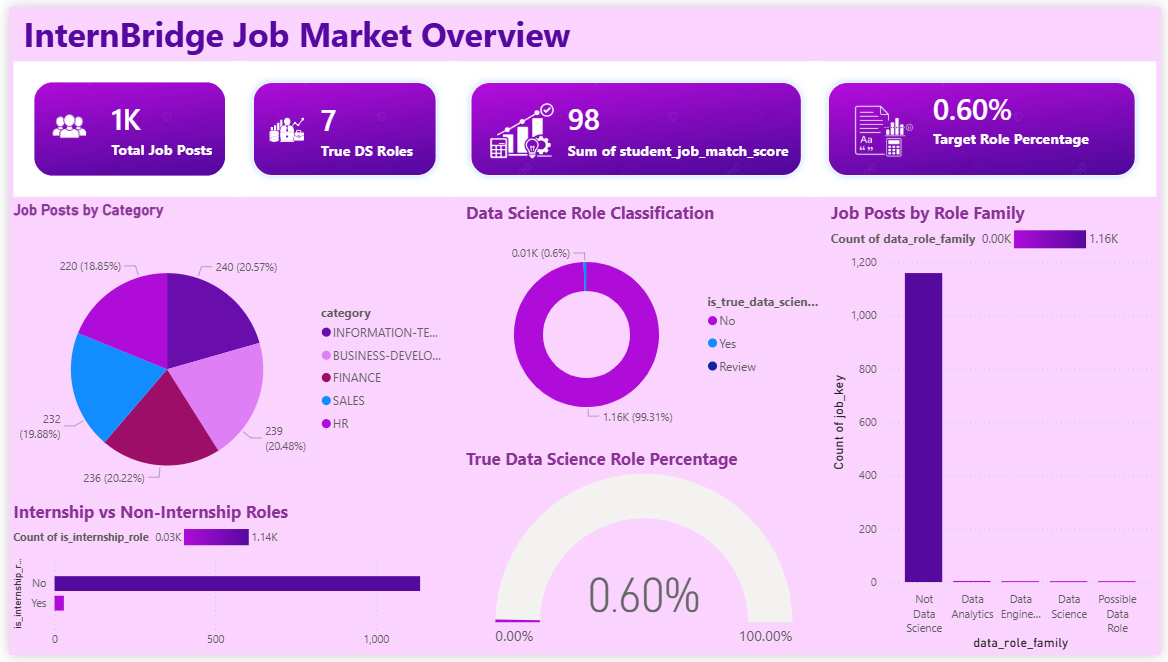

The page's visual inventory and layout, read from the dashboard file:
{"tool":"powerbi","page":{"name":"Job Market Overview","canvas":[1280,720],"ordinal":0},"visuals":[{"type":"textbox","box":[11.4,0,718.6,82.9],"z":0},{"type":"cardVisual","fields":{"Data":["Jobs.Total Job Posts"]},"box":[0,55.7,268.6,160],"z":1000},{"type":"cardVisual","fields":{"Data":["Jobs.True DS Roles"]},"box":[242.9,55.7,260,160],"z":2000},{"type":"cardVisual","fields":{"Data":["Sum(Jobs.student_job_match_score)"]},"box":[484.3,55.7,424.3,160],"z":3000},{"type":"cardVisual","fields":{"Data":["Jobs.Target Role Percentage"]},"box":[881.4,55.7,398.6,160],"z":4000},{"type":"donutChart","title":"Data Science Role Classification","fields":{"Category":["Jobs.is_true_data_science_role"],"Y":["CountNonNull(Jobs.job_key)"]},"box":[502.9,215.7,407.1,272.9],"z":5000},{"type":"gauge","title":"True Data Science Role Percentage","fields":{"Y":["Jobs.Target Role Percentage"]},"box":[502.9,488.6,405.7,231.4],"z":6000},{"type":"pieChart","title":"Job Posts by Category","fields":{"Category":["Jobs.category"],"Y":["CountNonNull(Jobs.job_key)"]},"box":[0,215.7,498.6,355.7],"z":7000},{"type":"clusteredBarChart","title":"Internship vs Non-Internship Roles","fields":{"Category":["Jobs.is_internship_role"],"Y":["CountNonNull(Jobs.job_key)"]},"box":[0,547.4,499,173.1],"z":8000},{"type":"clusteredColumnChart","title":"Job Posts by Role Family","fields":{"Category":["Jobs.data_role_family"],"Y":["CountNonNull(Jobs.job_key)"]},"box":[908.6,215.7,371.4,504.3],"z":9000}]}

Visuals, with their boxes in screenshot pixels (x1, y1, x2, y2), scaled from the page's 1280x720 canvas onto the 1168x662 screenshot:
textbox: rect(10, 0, 666, 76)
cardVisual - Jobs.Total Job Posts: rect(0, 51, 245, 198)
cardVisual - Jobs.True DS Roles: rect(222, 51, 459, 198)
cardVisual - Sum(Jobs.student_job_match_score): rect(442, 51, 829, 198)
cardVisual - Jobs.Target Role Percentage: rect(804, 51, 1167, 198)
"Data Science Role Classification" donutChart: rect(459, 198, 830, 449)
"True Data Science Role Percentage" gauge: rect(459, 449, 829, 661)
"Job Posts by Category" pieChart: rect(0, 198, 455, 525)
"Internship vs Non-Internship Roles" clusteredBarChart: rect(0, 503, 455, 661)
"Job Posts by Role Family" clusteredColumnChart: rect(829, 198, 1167, 661)
